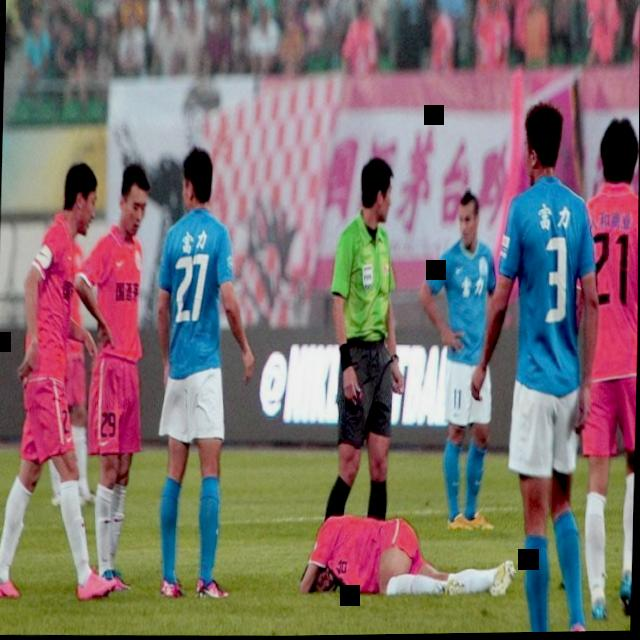Fall-Detected: (291, 500, 518, 605)
